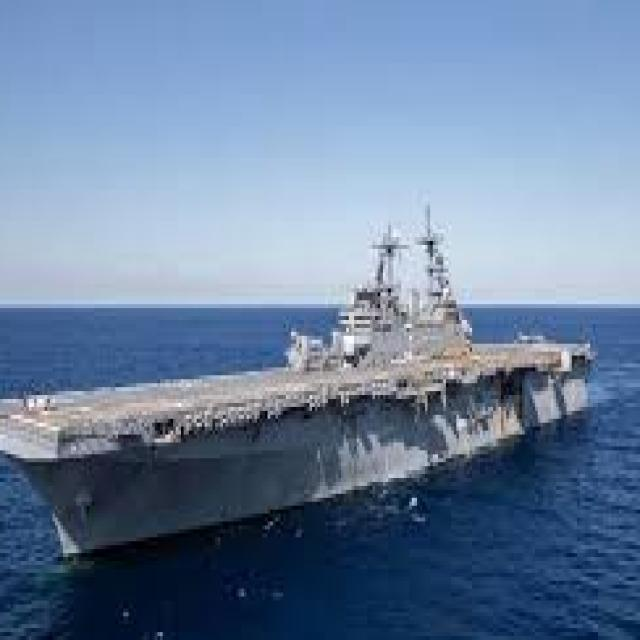navalvessels: (0, 122, 590, 588)
